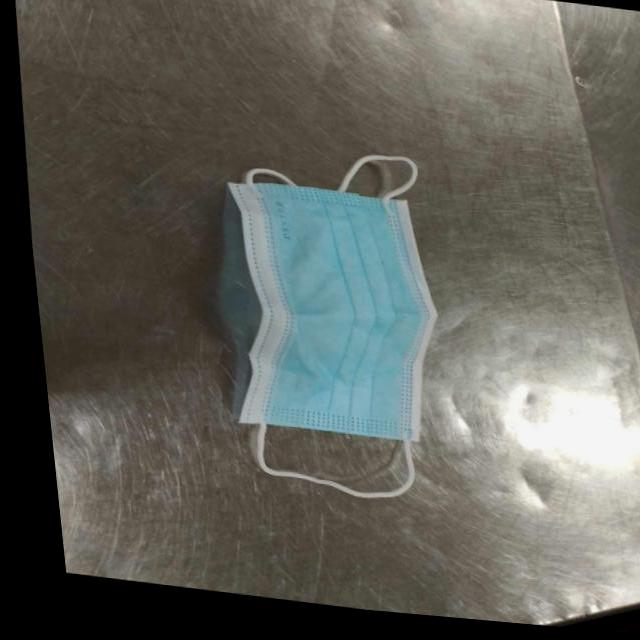Infectious: (218, 153, 439, 498)
